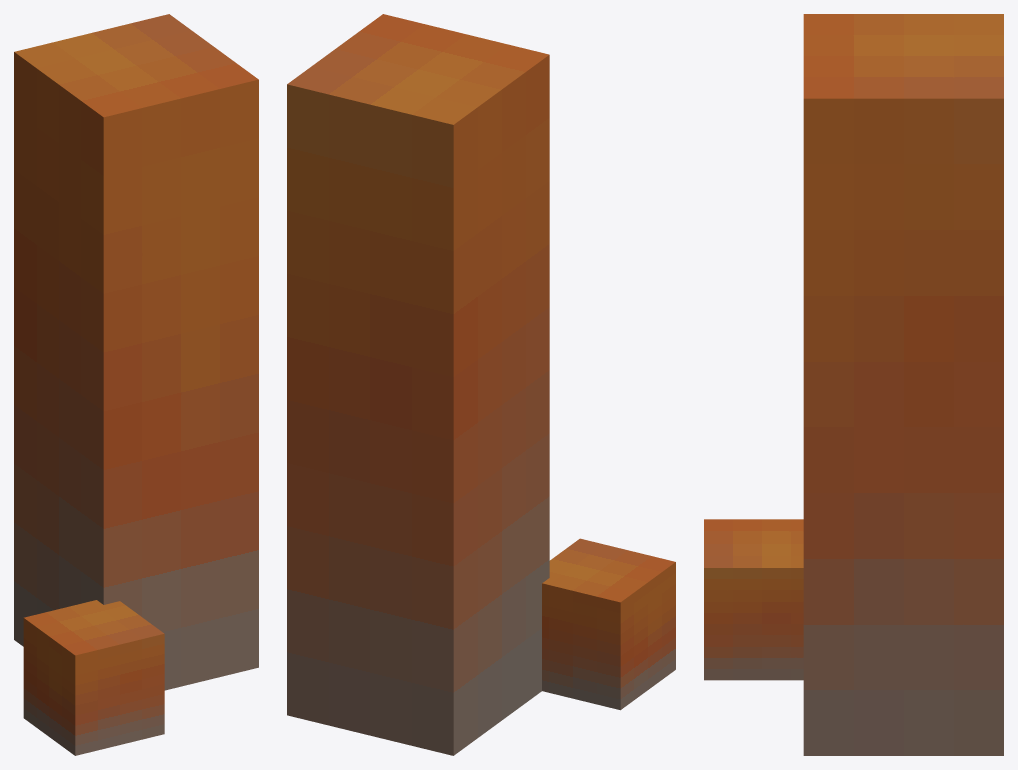
The model's file is crystal_two.obj.
The picture shows the model from 3 angles, left to right: view 1: azimuth 30°, elevation 25°; view 2: azimuth 150°, elevation 25°; view 3: azimuth 270°, elevation 25°; orthographic projection. The views are drawn at different scales.
Parts seen in each view (by area): view 1: Crystal5_Cube.008; view 2: Crystal5_Cube.008; view 3: Crystal5_Cube.008.
Boxes of the visible parts, left/top/right/bottom form: Crystal5_Cube.008: left=14, top=14, right=258, bottom=755; Crystal5_Cube.008: left=287, top=14, right=675, bottom=755; Crystal5_Cube.008: left=704, top=14, right=1003, bottom=755.
Bounding box in the file's own units: 0.1355 × 0.3335 × 0.1379.
